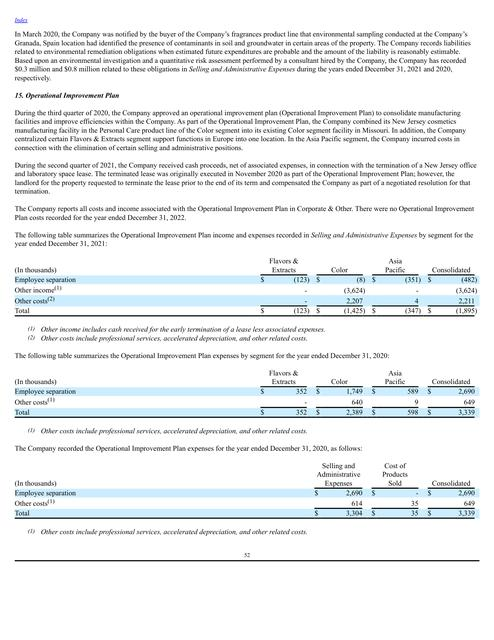box: (13, 257, 480, 318), (11, 462, 481, 520), (13, 370, 481, 422)
